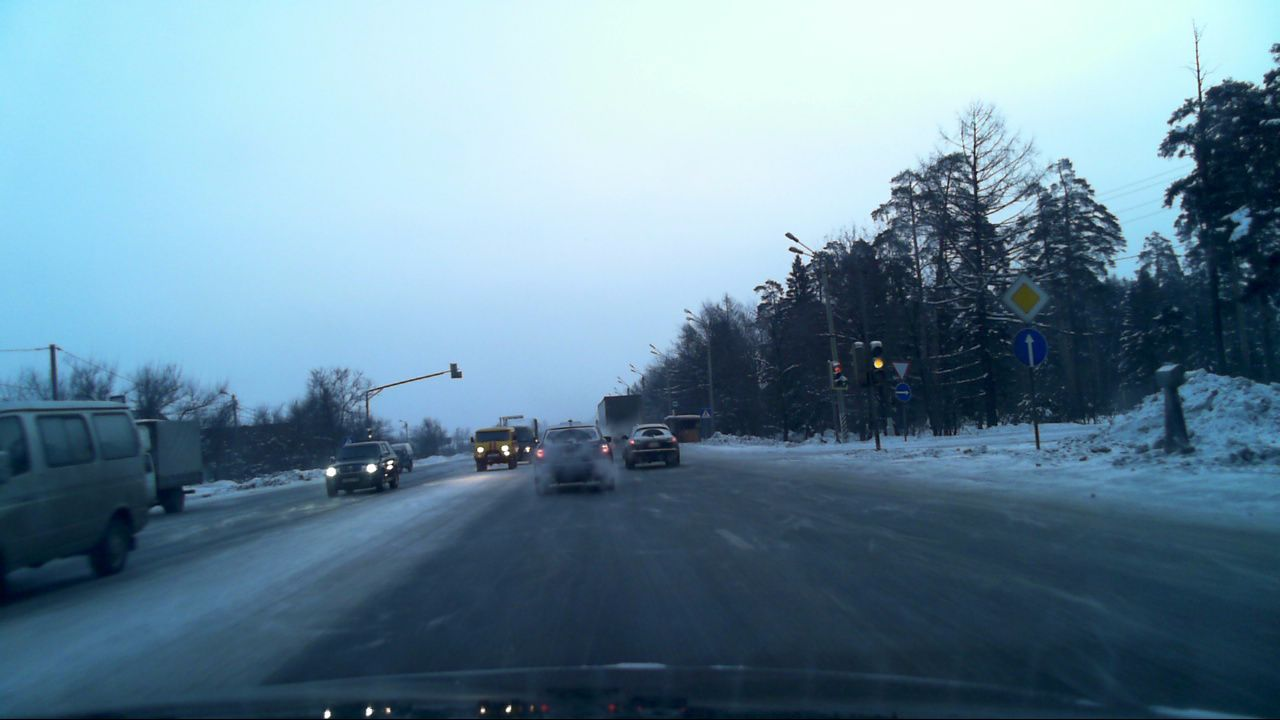Turn Right: (894, 382, 913, 403)
